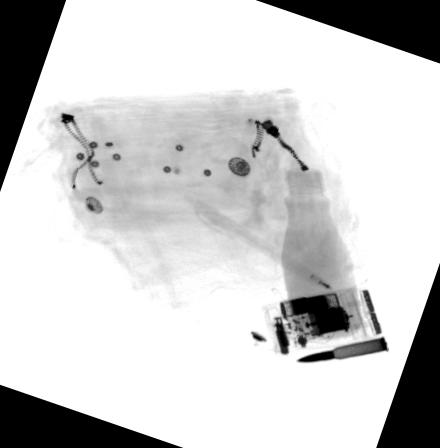Bullet: (293, 334, 388, 362)
